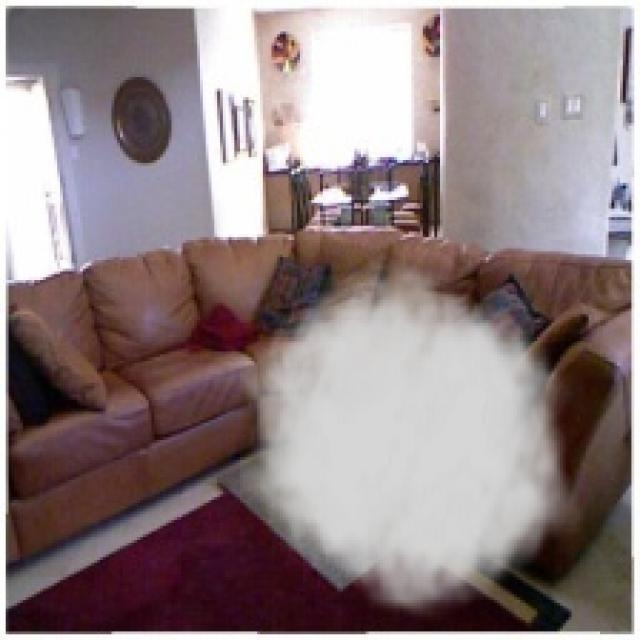Smoke: (240, 248, 586, 628)
